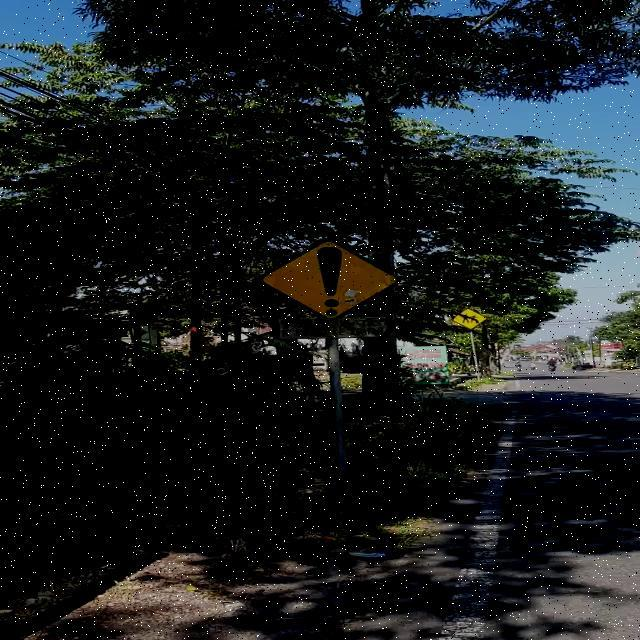Hati-Hati: (260, 238, 400, 318)
